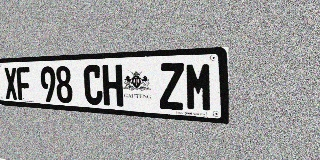8: (55, 66, 73, 103)
9: (40, 66, 57, 102)
C: (83, 65, 103, 105)
F: (16, 67, 31, 101)
H: (102, 64, 123, 107)
M: (185, 62, 213, 112)
X: (4, 67, 18, 100)
Z: (159, 63, 185, 110)
